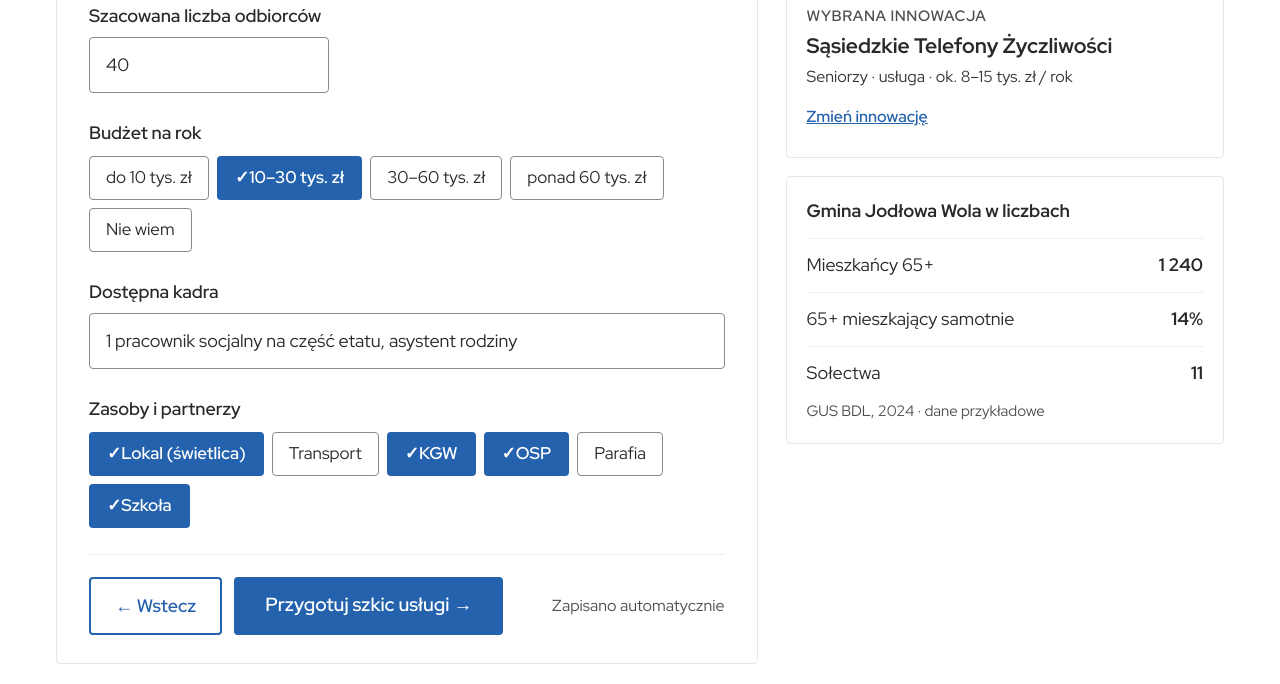
Test: adaptation › returns focus to the edit button when an edit is cancelled
This screenshot has width=1280, height=684.
(page scrolled)
Click the button "Przygotuj szkic usługi →": (369,606) x1=234 y1=576 x2=503 y2=634
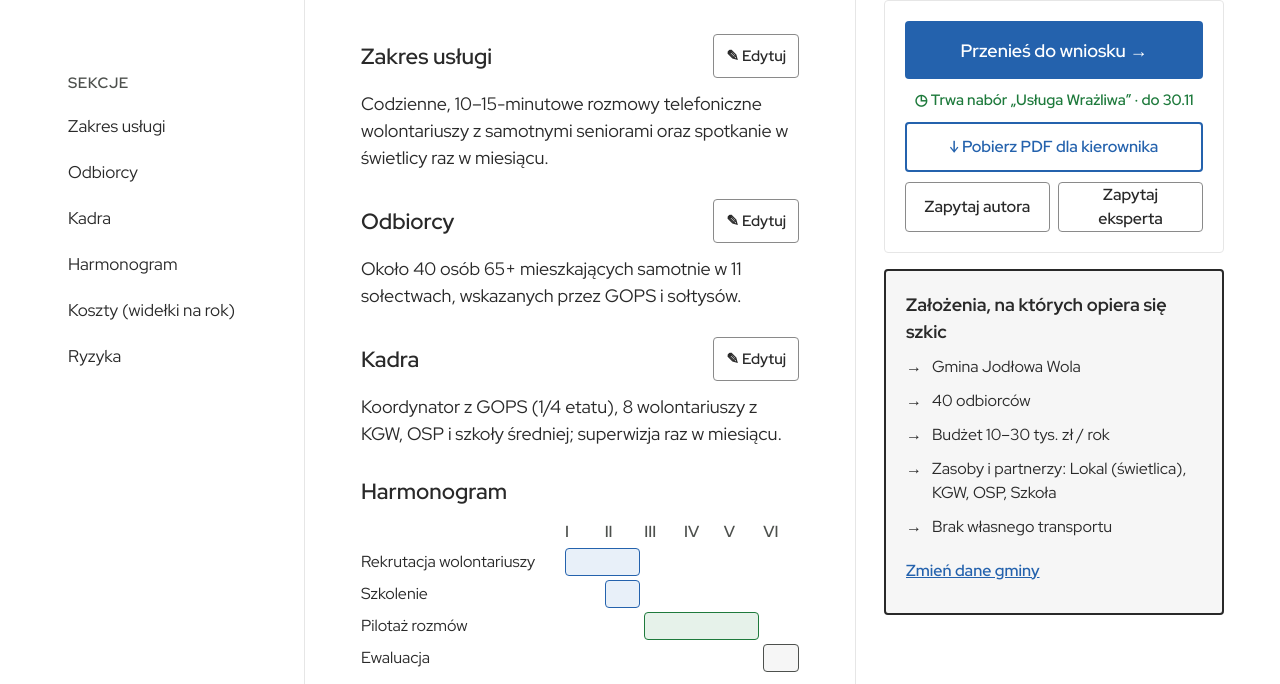
Click the button with aria-label "Edytuj: Kadra": (756,359) x1=713 y1=337 x2=799 y2=381
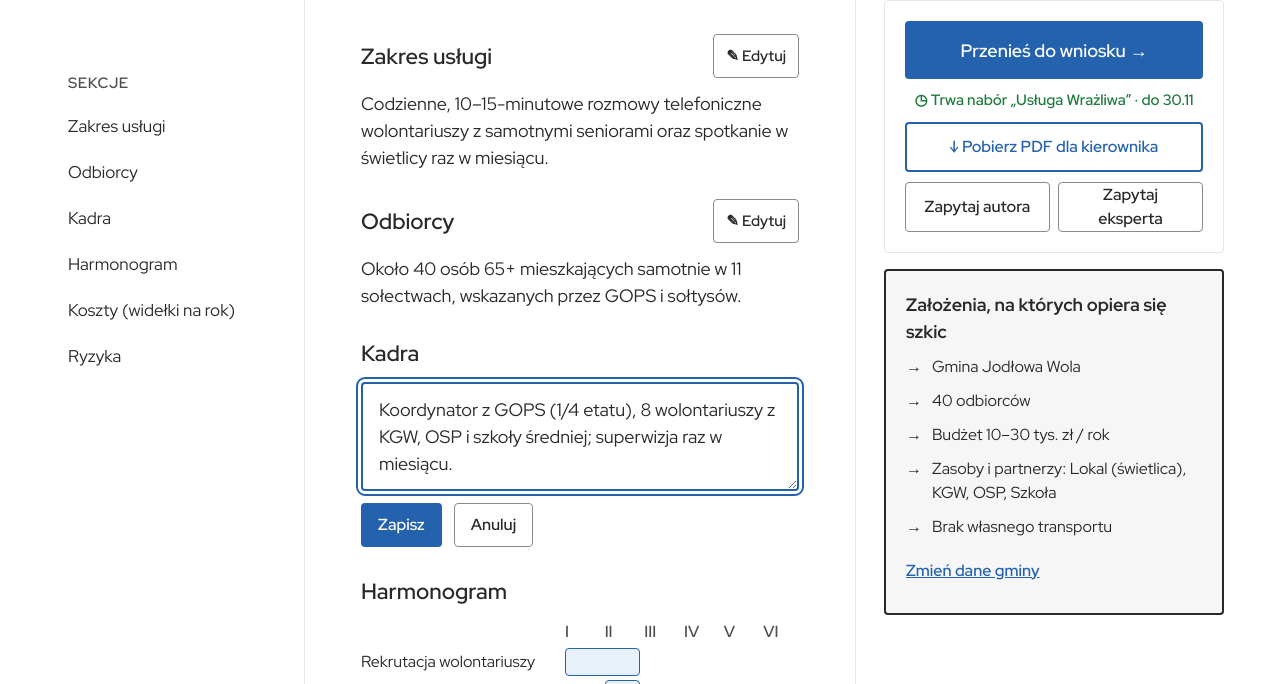
Click the button "Anuluj": (494,525) x1=454 y1=503 x2=533 y2=547
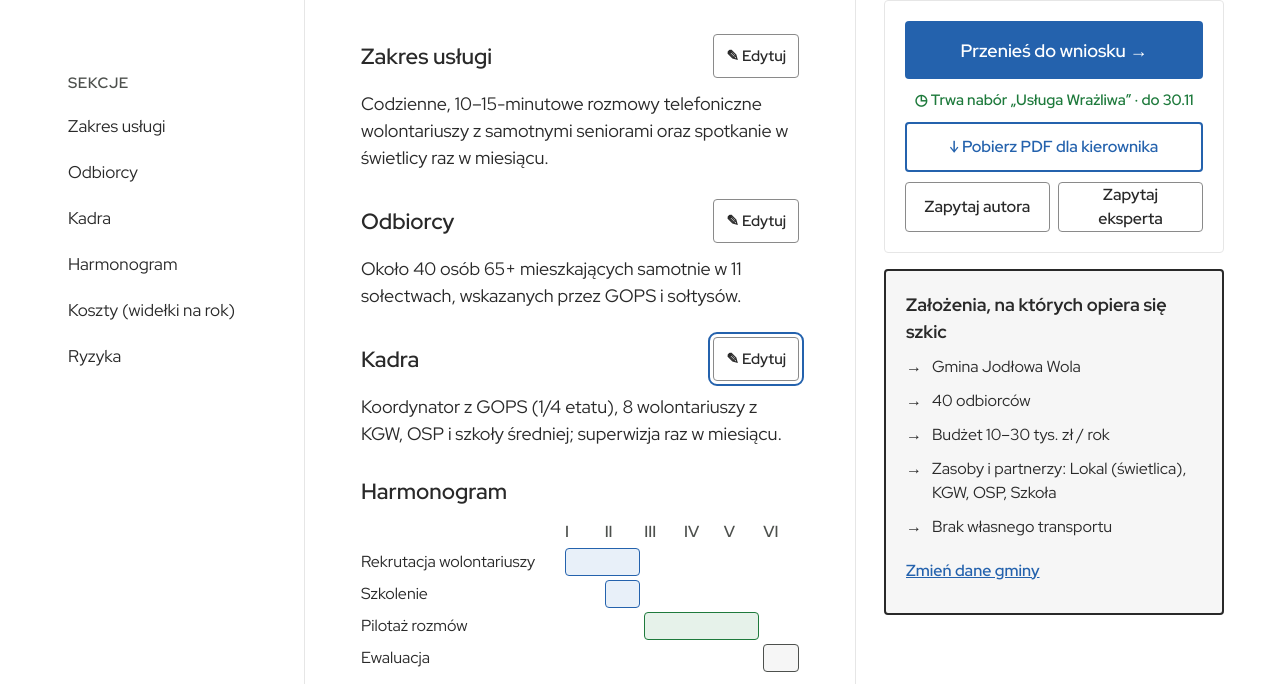
Expected: the text "Koordynator z GOPS (1/4 etatu)" is shown, x1=361 y1=395 x2=782 y2=445
